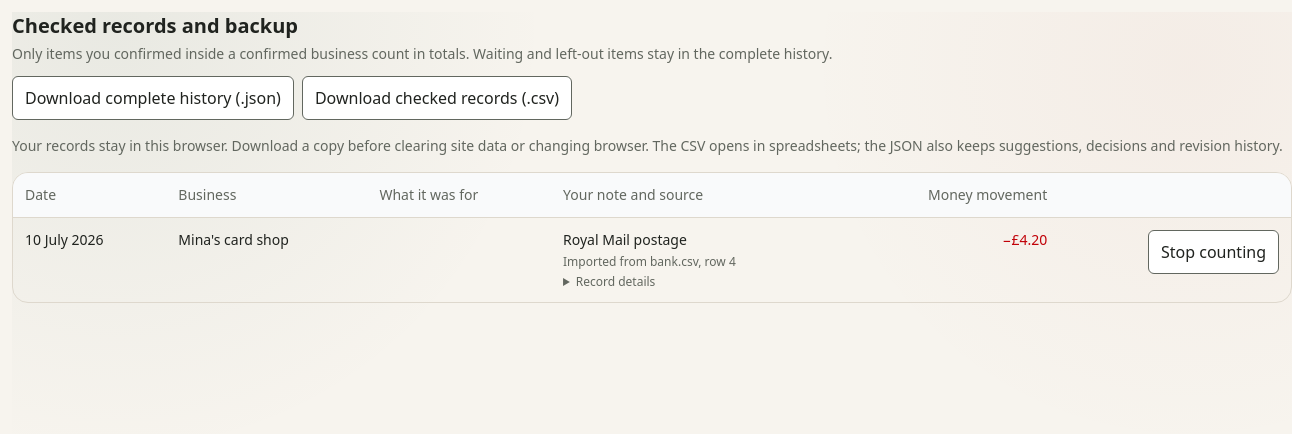
Test case: Ledger › explains a failed record change plainly and keeps technical detail optional
Click the button named "Stop counting Royal Mail postage from 10 July 2026; keep it in history". click: (1214, 252)
box: [1148, 230, 1279, 274]
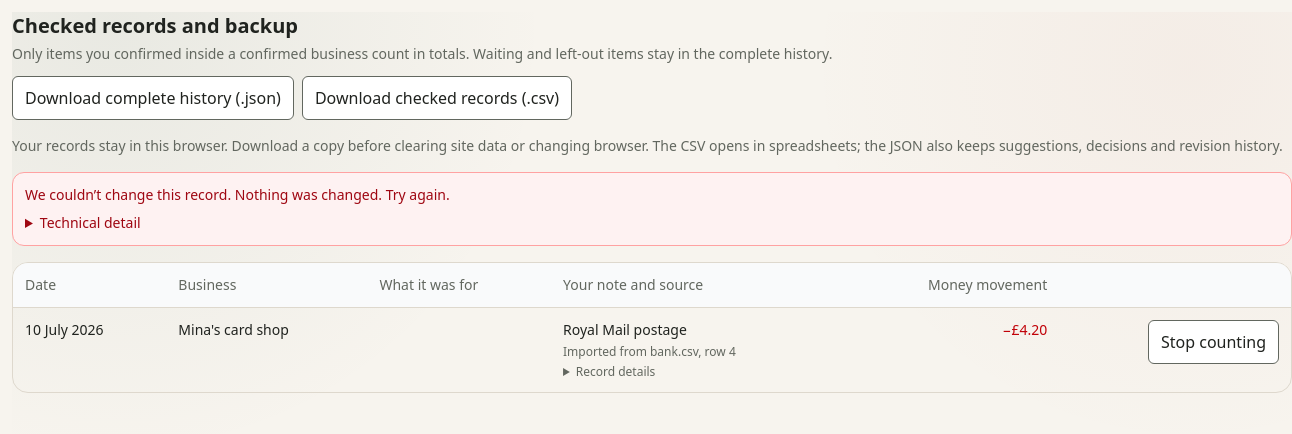
expect the message shows "We couldn’t change this record. Nothing was changed. Try again.": met, box [25, 185, 450, 204]
Click the heading "Technical detail". click: (90, 222)
box: [40, 213, 141, 232]
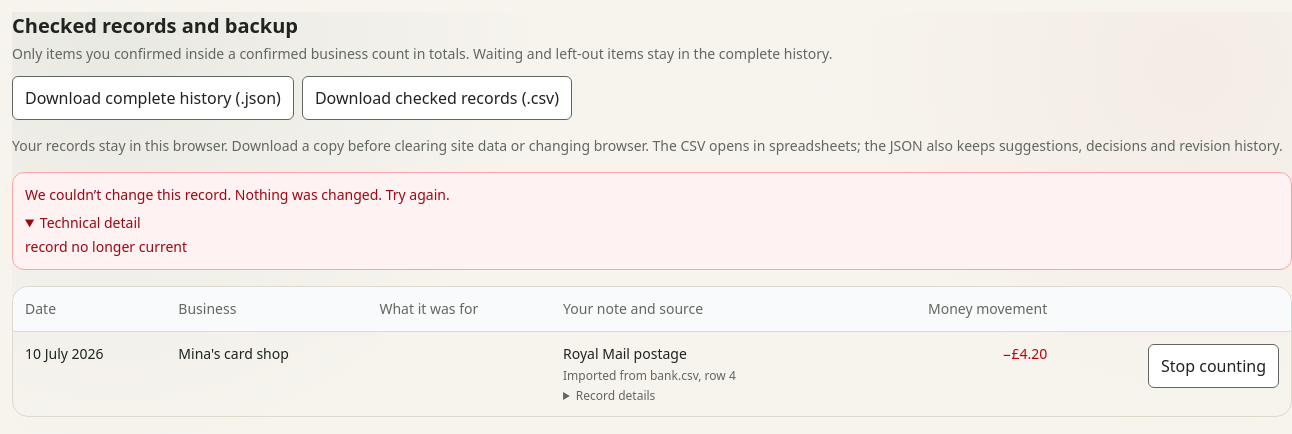
expect the text "record no longer current" is shown: met, box [25, 237, 187, 256]
